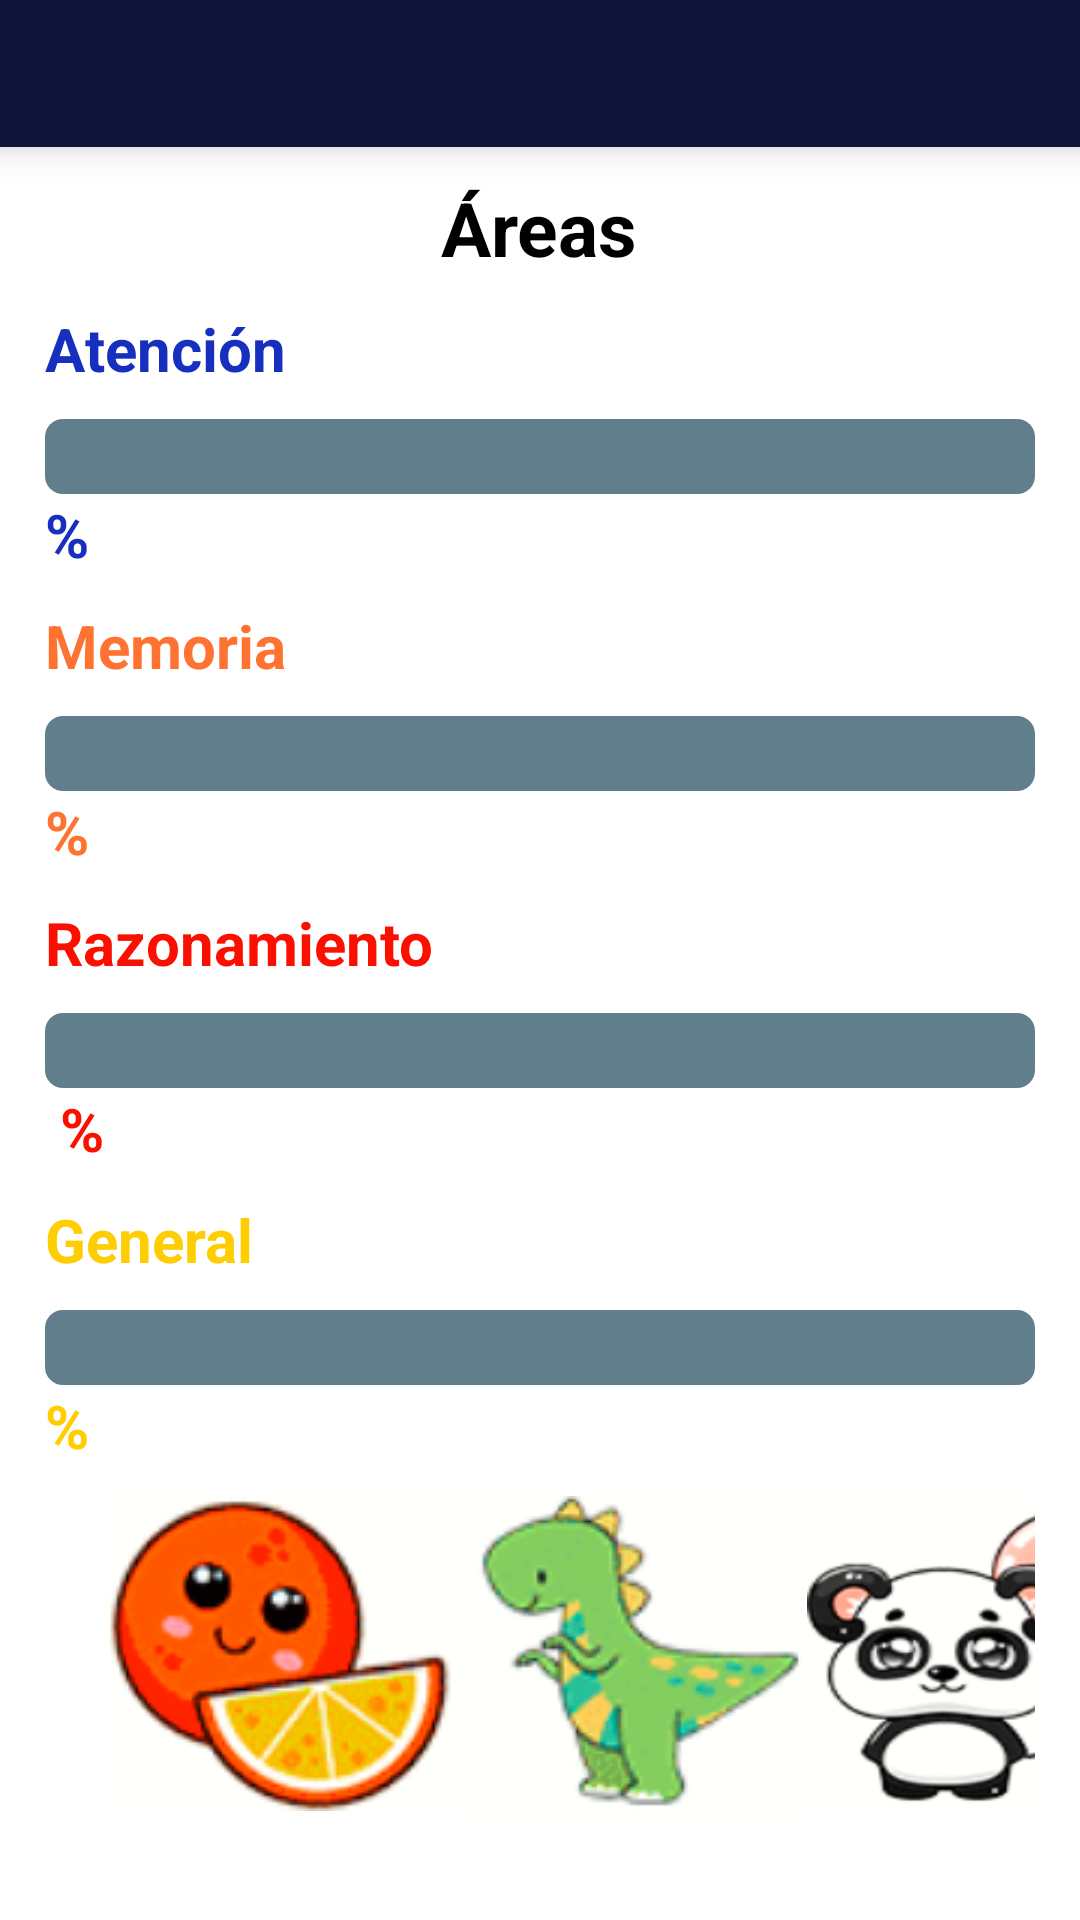

Icon bounding boxes for this 1080w x 1920h phone screenshot, format (x1, y1, x2, y2):
dino: (482, 1496, 799, 1806)
naranja: (110, 1501, 450, 1811)
